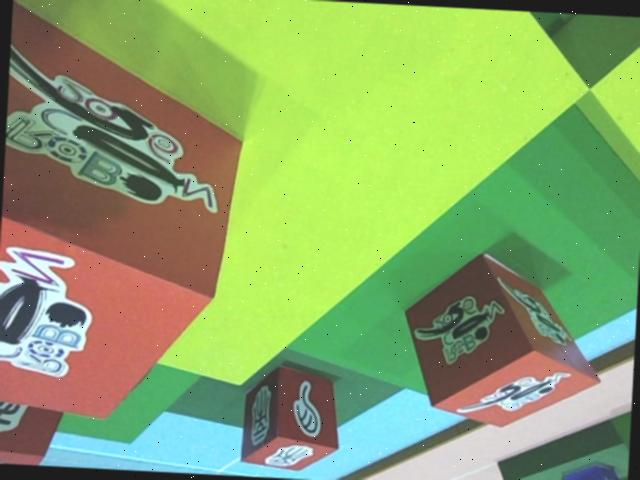R1: (0, 0, 247, 429), (397, 247, 607, 436)
R2 Fake: (239, 363, 343, 476)
